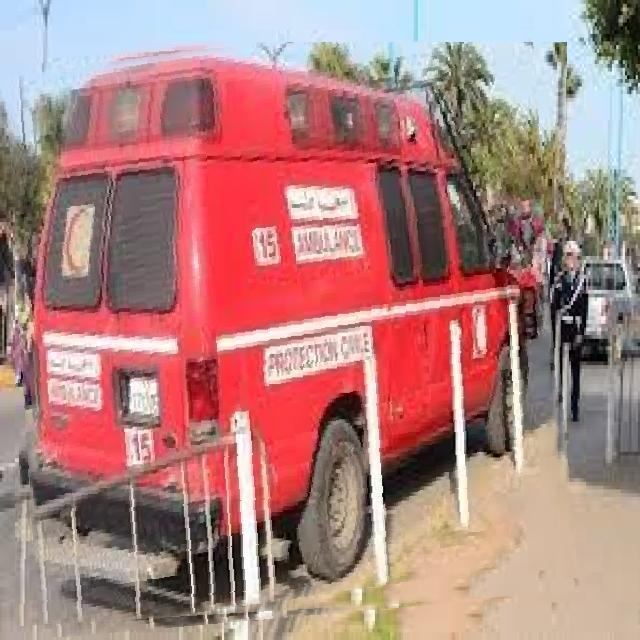ambulance: (15, 42, 568, 627)
